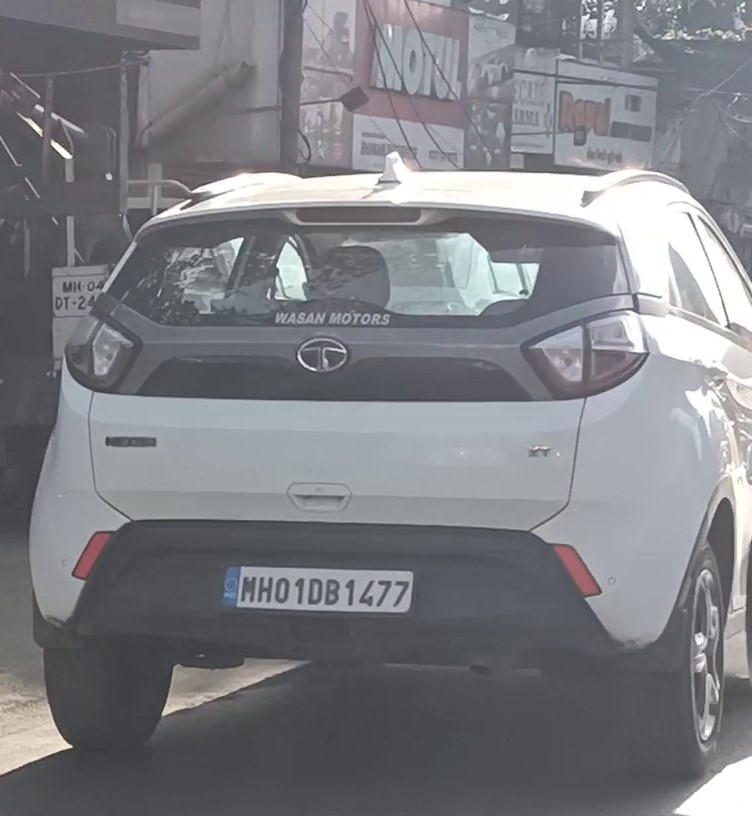MH01DB1477: (218, 564, 413, 613)
